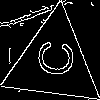C: (28, 37, 75, 79)
